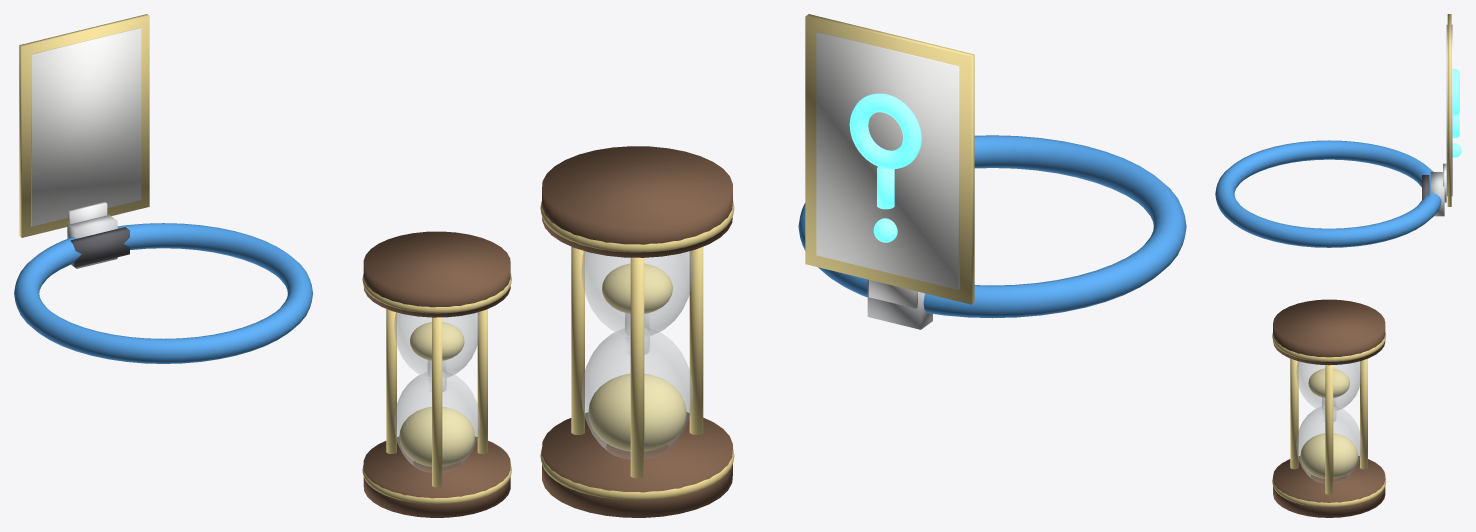
The model's file is hedbanz_pack.glb.
3 views of the same model, side by side, from view 1: azimuth 30°, elevation 25°; view 2: azimuth 150°, elevation 25°; view 3: azimuth 270°, elevation 25° (orthographic). The views are drawn at different scales.
Visible parts, largest first — view 1: Game_Timer_Hourglass, Mystery_Card_3D, Avatar_Headband_Pro; view 2: Game_Timer_Hourglass, Mystery_Card_3D, Avatar_Headband_Pro; view 3: Game_Timer_Hourglass, Avatar_Headband_Pro, Mystery_Card_3D.
Part boxes in pixels (x1,y1,x2,y2): Game_Timer_Hourglass: (362, 231, 511, 517); Mystery_Card_3D: (19, 14, 149, 237); Avatar_Headband_Pro: (14, 201, 312, 363); Game_Timer_Hourglass: (540, 146, 734, 517); Mystery_Card_3D: (805, 14, 974, 304); Avatar_Headband_Pro: (798, 135, 1186, 329); Game_Timer_Hourglass: (1272, 299, 1386, 517); Avatar_Headband_Pro: (1215, 140, 1446, 247); Mystery_Card_3D: (1446, 14, 1461, 206).
Size of the model in its own units: 1.03 by 0.975 by 0.614.
